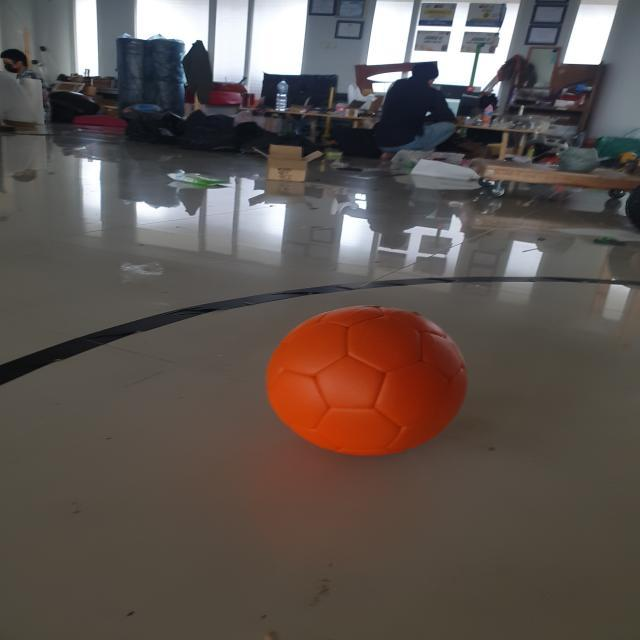bola: (255, 296, 476, 464)
